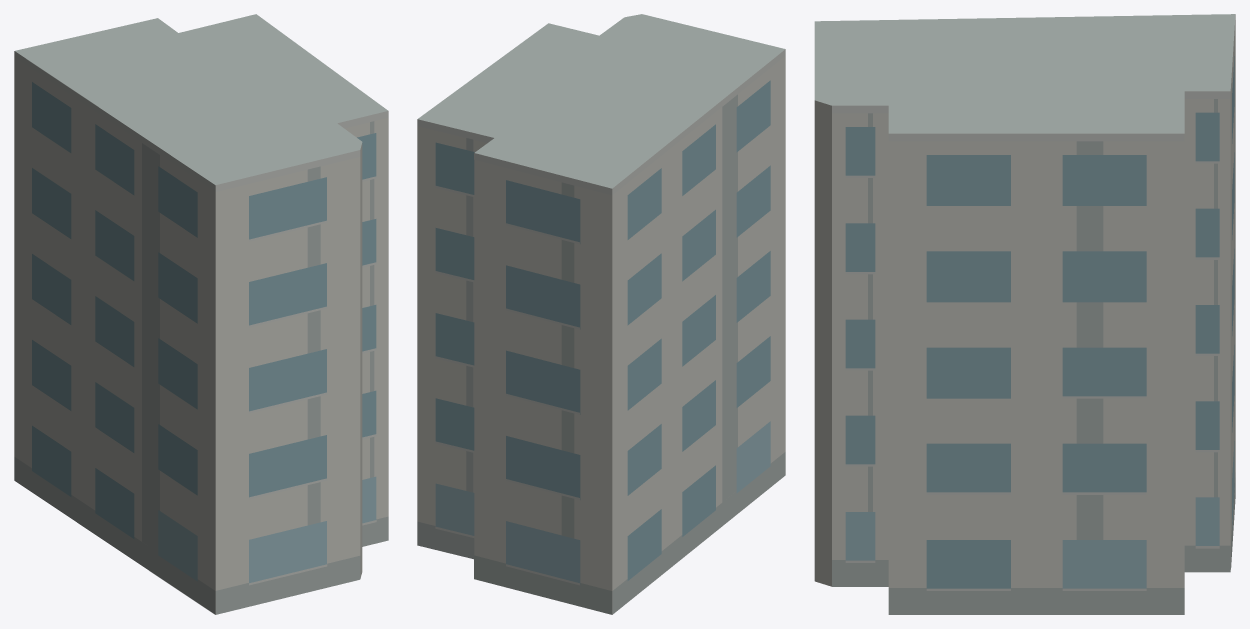
File: survey-upis-32485985.glb
The picture shows the model from 3 angles, left to right: view 1: azimuth 30°, elevation 25°; view 2: azimuth 150°, elevation 25°; view 3: azimuth 270°, elevation 25°; orthographic projection. The views are drawn at different scales.
Visible parts, largest first — view 1: survey-upis-32485985.tmp; view 2: survey-upis-32485985.tmp; view 3: survey-upis-32485985.tmp.
Part boxes in pixels (box(x1,y1,x2,y2)): survey-upis-32485985.tmp: box(14, 14, 388, 614); survey-upis-32485985.tmp: box(417, 14, 785, 614); survey-upis-32485985.tmp: box(814, 14, 1235, 614).
Bounding box in the file's own units: 8.24 × 15.4 × 12.23.
